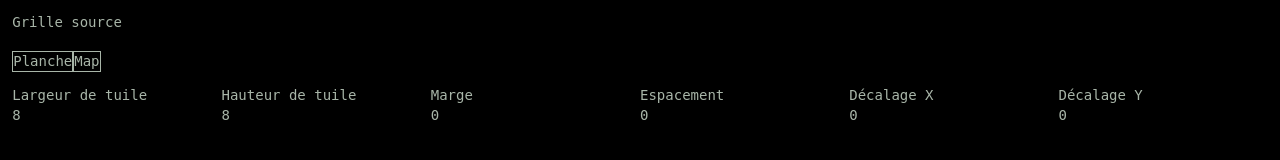
TilesetGridPanel › starts a map with a budget of one byte of tiles
Click the button "Map": x=87, y=61 [73,50,101,72]
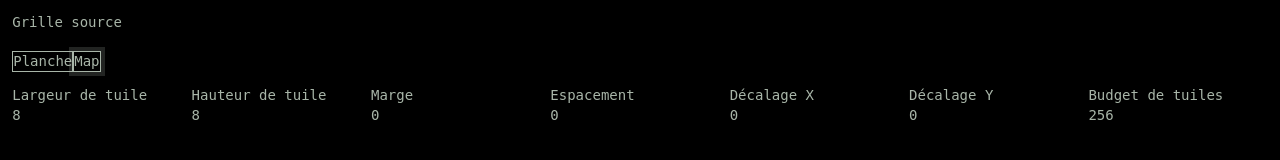
expect the number field labelled "Budget de tuiles" holds "256": met, box [1088,106,1268,125]
